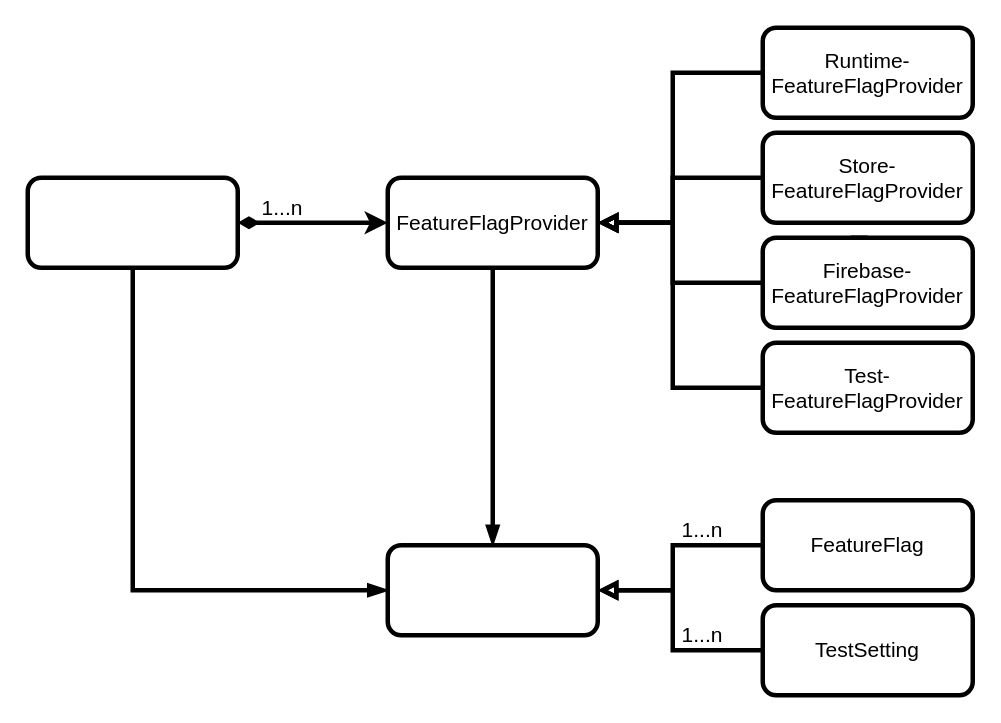
This 1001x723 diagram has some shape labels left out. The centre of each missing label's shape, as x and y in pixels:
Feature: point (492, 589)
RuntimeBehavior: point (132, 222)
